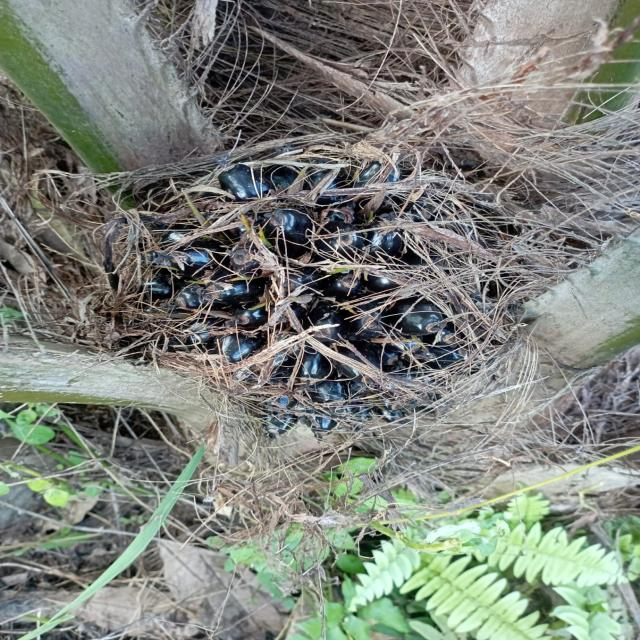fraksi 00: (55, 99, 594, 497)
